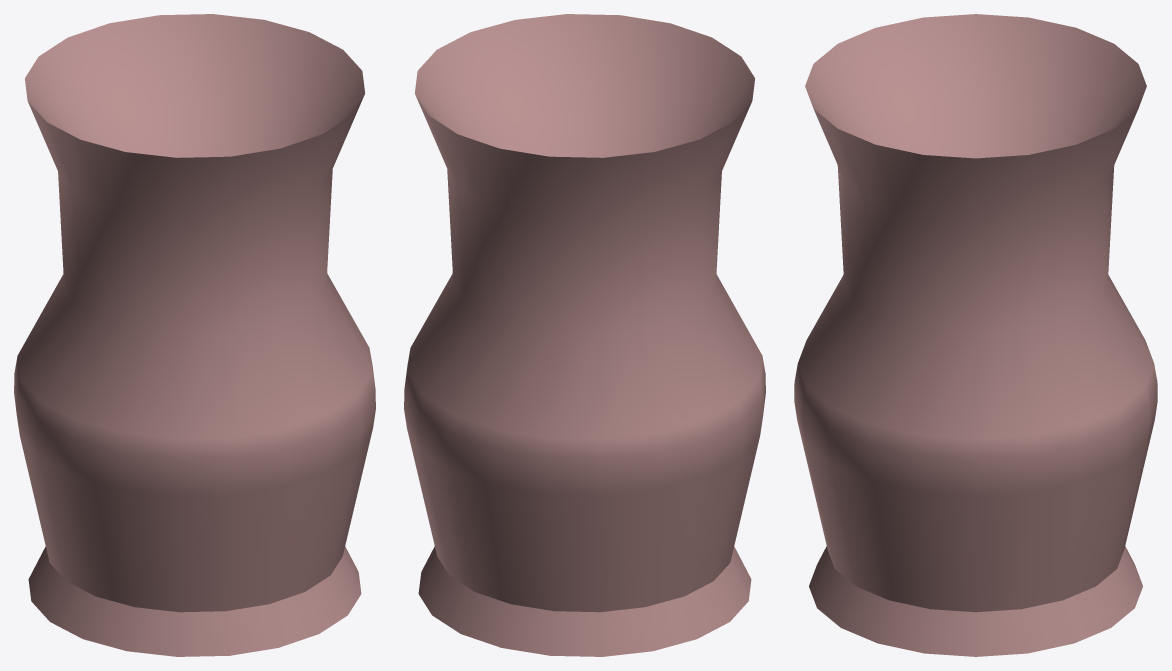
The model's file is HospitalVase00.fbx.
The picture shows the model from 3 angles, left to right: view 1: azimuth 30°, elevation 25°; view 2: azimuth 150°, elevation 25°; view 3: azimuth 270°, elevation 25°; orthographic projection.
Parts seen in each view (by area): view 1: pCylinder3; view 2: pCylinder3; view 3: pCylinder3.
Boxes of the visible parts, x1,y1,x2,y2 form: pCylinder3: (14,14,375,656); pCylinder3: (404,14,765,656); pCylinder3: (794,14,1157,656).
Bounding box in the file's own units: 43.48 × 66.02 × 43.48.
